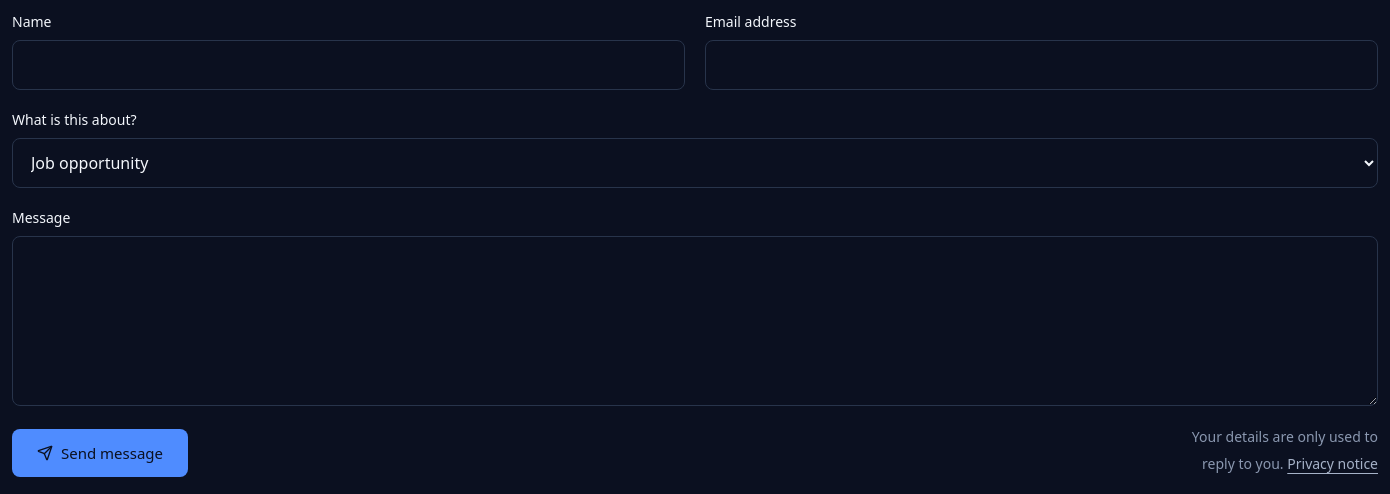
Test: ContactForm › shows success only after the service confirms the submission
Type "Amina Otieno" into the field labelled "Name" at (348,65), box [12,40,685,90]
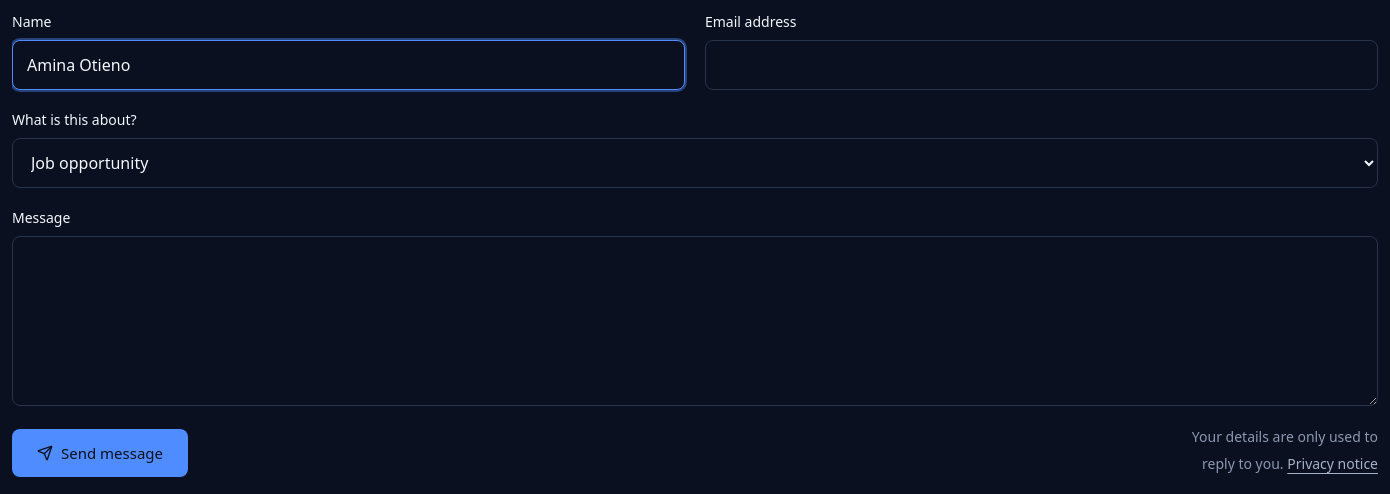
Type "amina@example.com" into the field labelled "Email address" at (1042,65), box [705,40,1378,90]
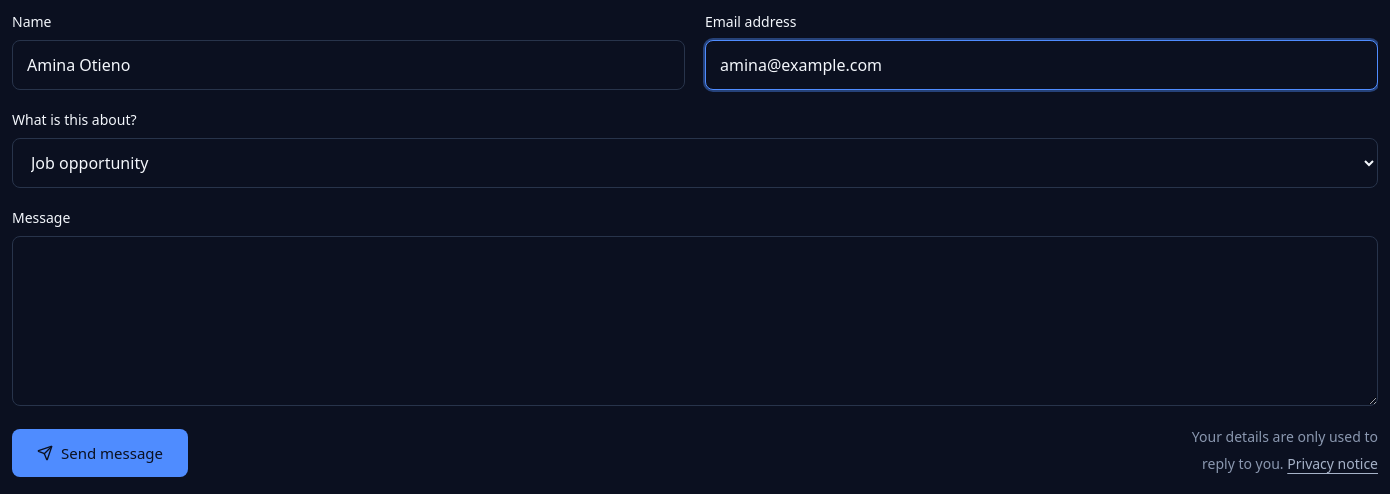
Type "I would like to talk about a role." into the text box labelled "Message" at (695,321), box [12,236,1378,406]
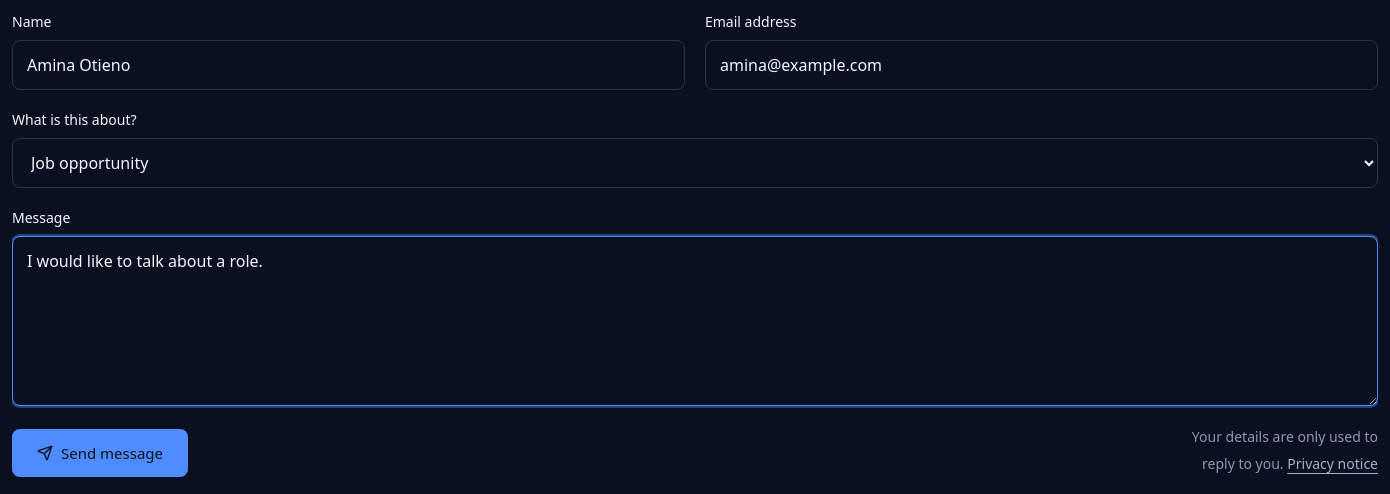
Click the button "Send message" at (100,453), box [12,429,188,477]
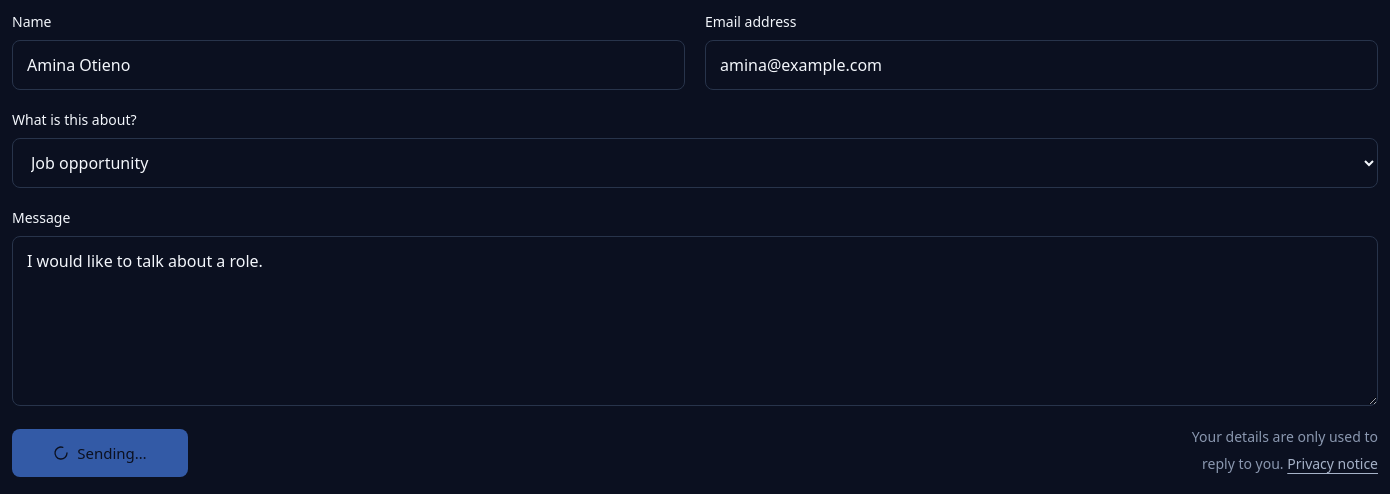
Expected: the text "Message sent" is not shown
Expected: the button "Sending…" is disabled
Click the button "Sending…" at (100,453), box [12,429,188,477]
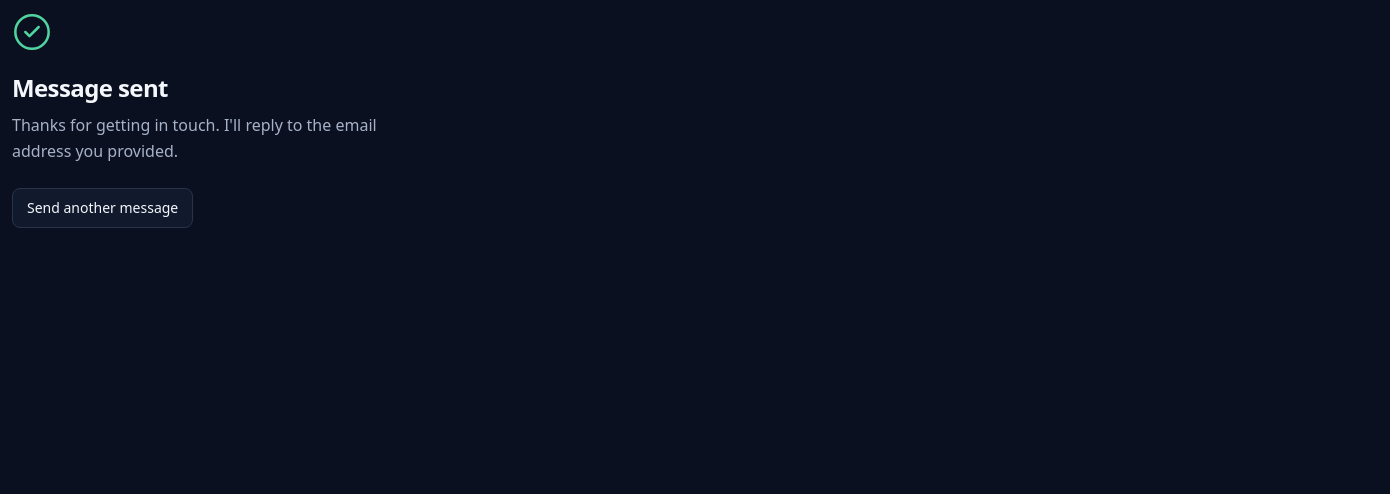
Expected: the heading "Message sent" is shown, [12,72,168,104]
